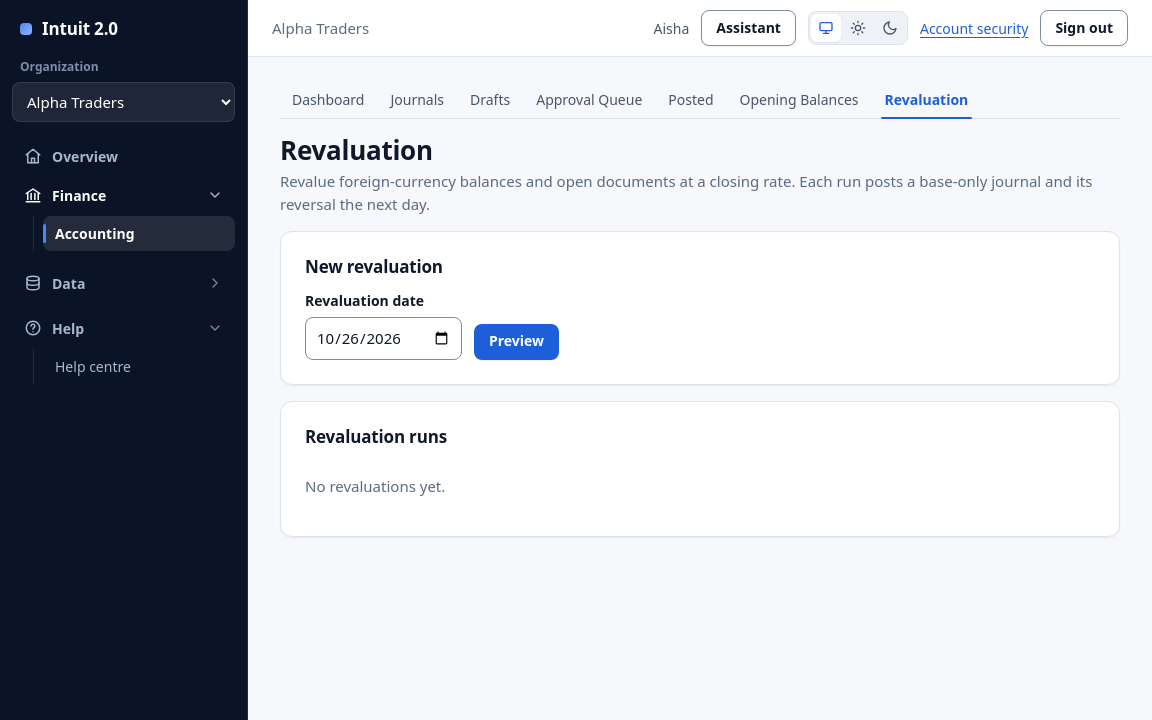
Test: revaluation page › lets a viewer preview but not post or submit
The width and height of the screenshot is (1152, 720).
Click the button "Preview" at [517, 342], box [474,324,559,360]
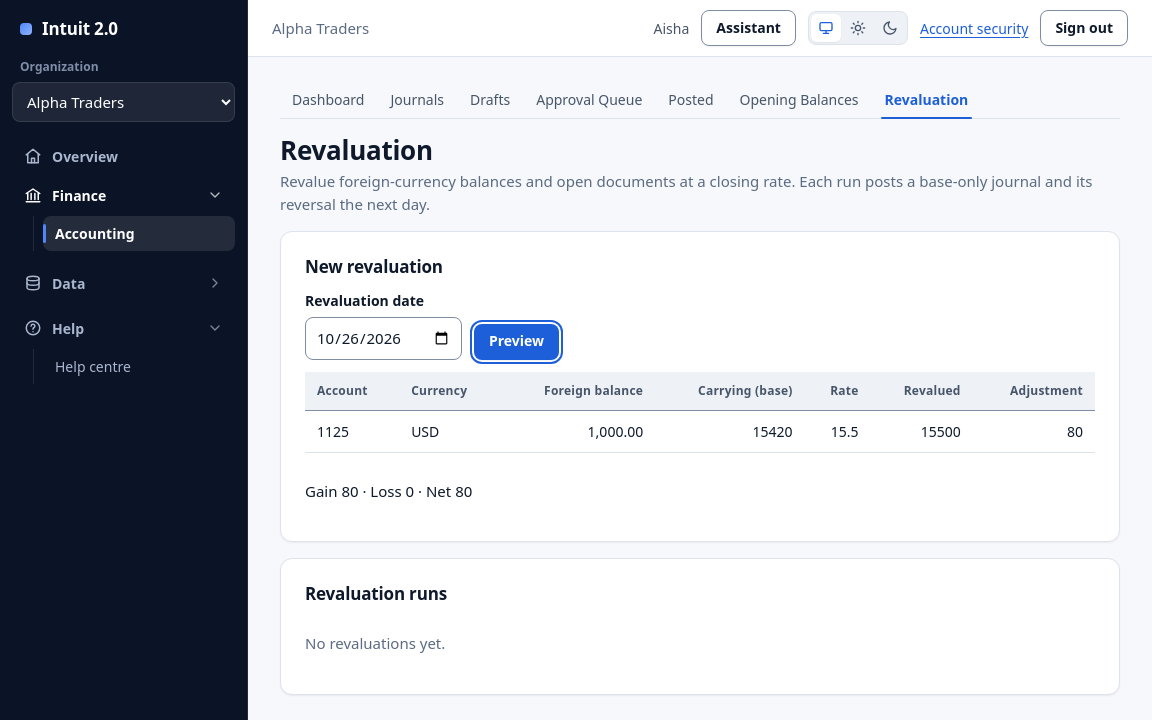
Now the text "1125" is shown, box [305,410,399,452]
